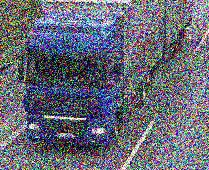truck: (18, 0, 190, 148)
